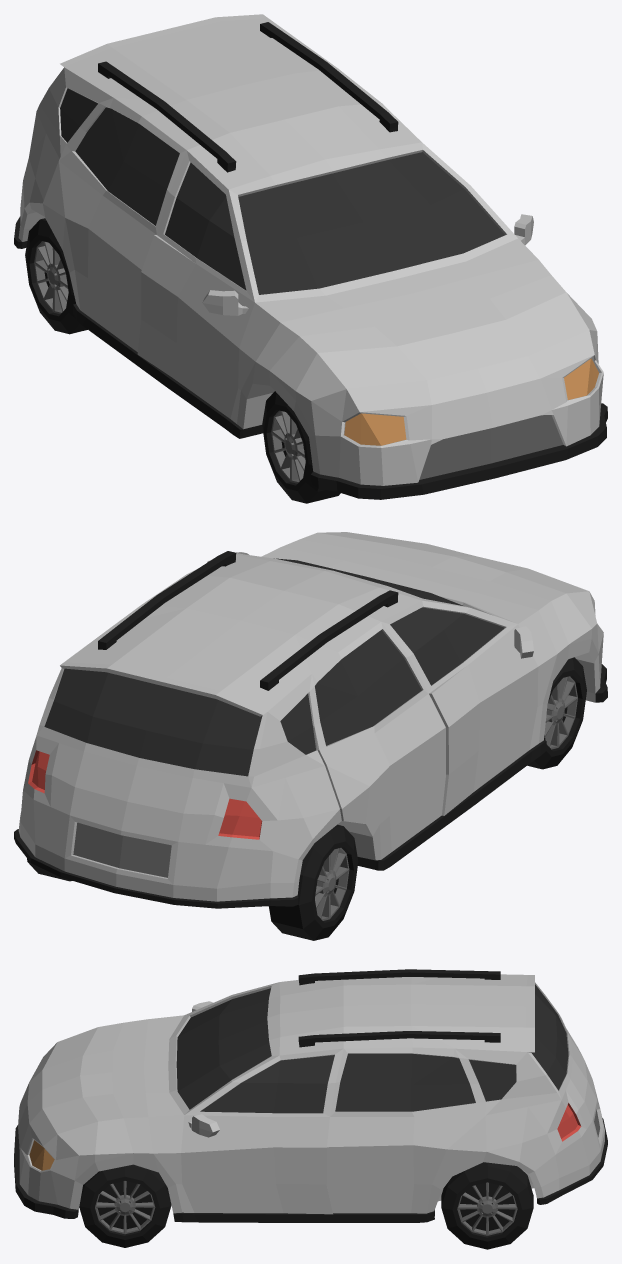
File: suv.glb
3 views of the same model, one above another, from view 1: azimuth 30°, elevation 25°; view 2: azimuth 150°, elevation 25°; view 3: azimuth 270°, elevation 25° (orthographic). The views are drawn at different scales.
Visible parts, largest first — view 1: SUV_Cube; view 2: SUV_Cube; view 3: SUV_Cube.
Boxes of the visible parts, x1,y1,x2,y2 form: SUV_Cube: (14, 14, 607, 503); SUV_Cube: (14, 532, 607, 940); SUV_Cube: (14, 969, 607, 1249).
Bounding box in the file's own units: 2.11 × 1.53 × 4.21.
1 material, 1 textured.
